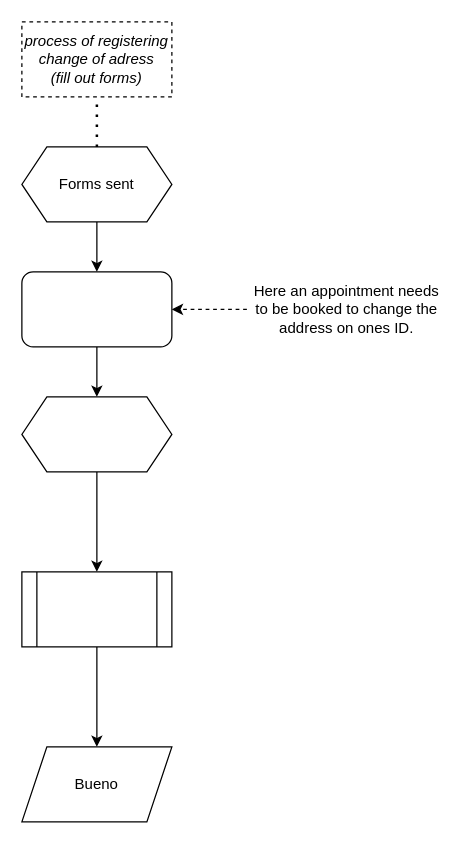
This 469x844 diagram has some shape labels left out. Here are the shapes that lost their labels. From the top down, the box of each, then its label:
(21, 271, 172, 347): Press "Book Appointment" Button
(21, 571, 172, 647): Hola que tal
